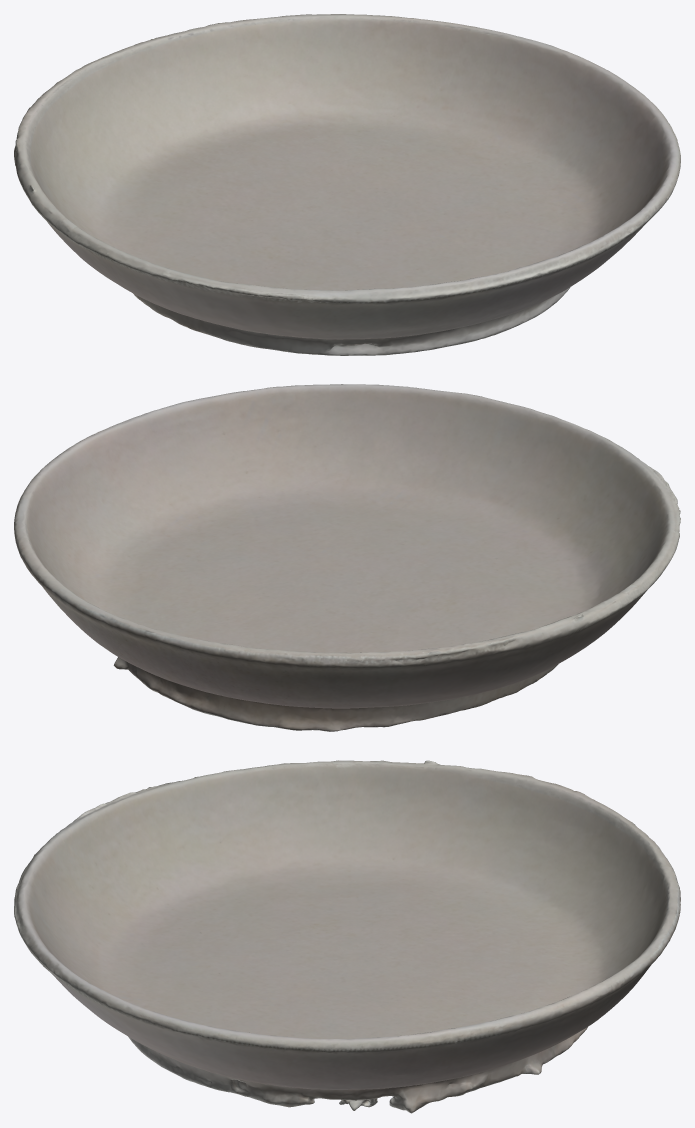
The model's file is plate.fbx.
3 renders of one model, top to bottom at view 1: azimuth 30°, elevation 25°; view 2: azimuth 150°, elevation 25°; view 3: azimuth 270°, elevation 25°, orthographic.
Visible parts, largest first — view 1: texture_mapping; view 2: texture_mapping; view 3: texture_mapping.
Part boxes in pixels (x1,y1,x2,y2): texture_mapping: (14,14,680,355); texture_mapping: (14,384,680,731); texture_mapping: (14,760,680,1113).
Size of the model in its own units: 100 by 20.41 by 99.89.
Materials: 1 (1 with a texture image).
